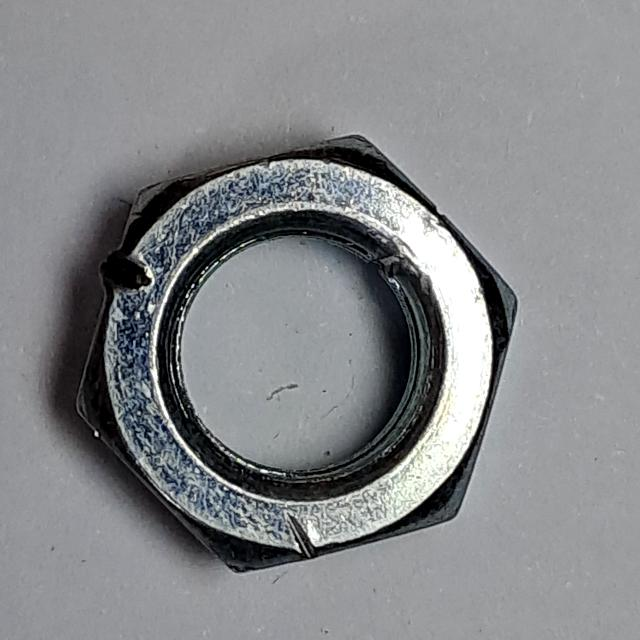Scratches: (66, 124, 534, 594)
